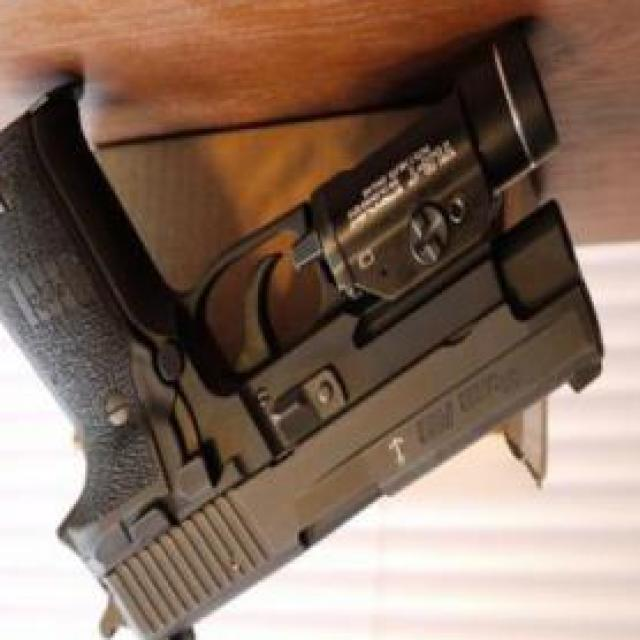pistol: (0, 72, 629, 640)
